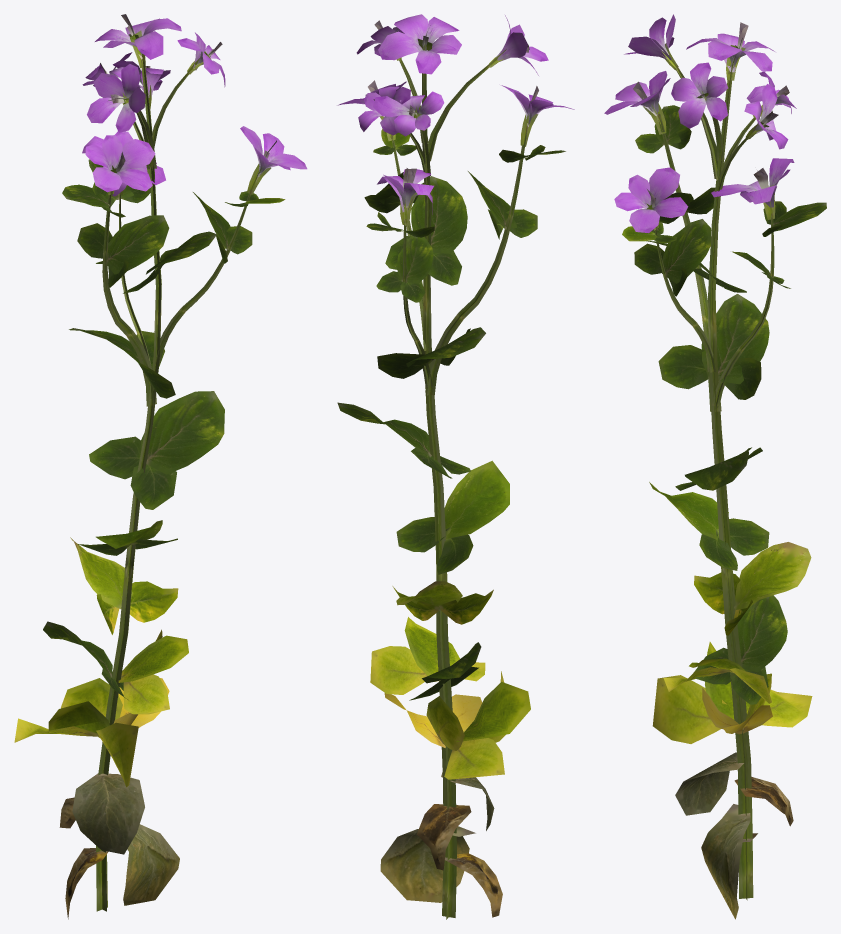
Rendered from Periwinkle_bush_normal_magenta.glb.
3 renders of one model, left to right at view 1: azimuth 30°, elevation 25°; view 2: azimuth 150°, elevation 25°; view 3: azimuth 270°, elevation 25°, orthographic.
Parts seen in each view (by area): view 1: _b868_Var1_LOD1; view 2: _b868_Var1_LOD1; view 3: _b868_Var1_LOD1.
Part boxes in pixels (x1,y1,x2,y2): _b868_Var1_LOD1: (14, 14, 307, 919); _b868_Var1_LOD1: (337, 14, 574, 919); _b868_Var1_LOD1: (604, 14, 826, 919).
Size of the model in its own units: 0.7589 by 2.81 by 0.6398.
Materials: 1 (1 with a texture image).
